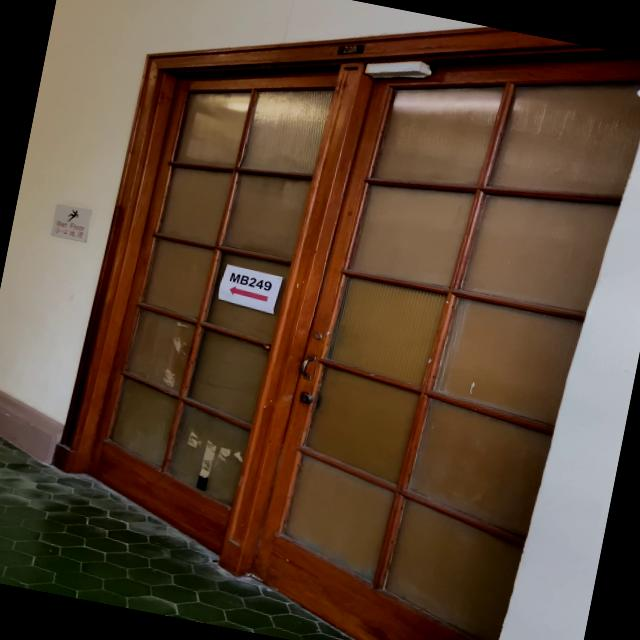room228: (336, 38, 366, 61)
